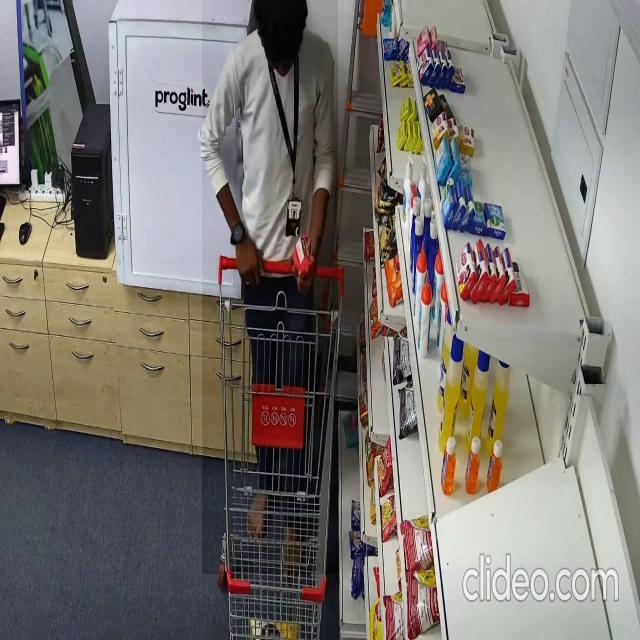normal: (202, 0, 338, 574)
